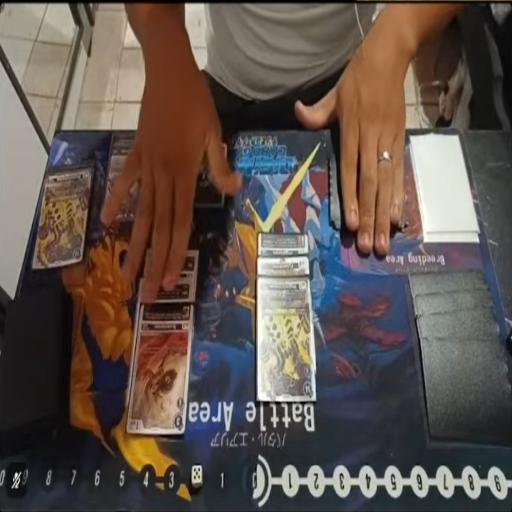card: (126, 306, 196, 438), (253, 273, 313, 403), (32, 162, 94, 270), (103, 131, 146, 225), (188, 134, 226, 210), (145, 246, 199, 287), (136, 275, 194, 307), (255, 230, 312, 260), (255, 256, 312, 275)
